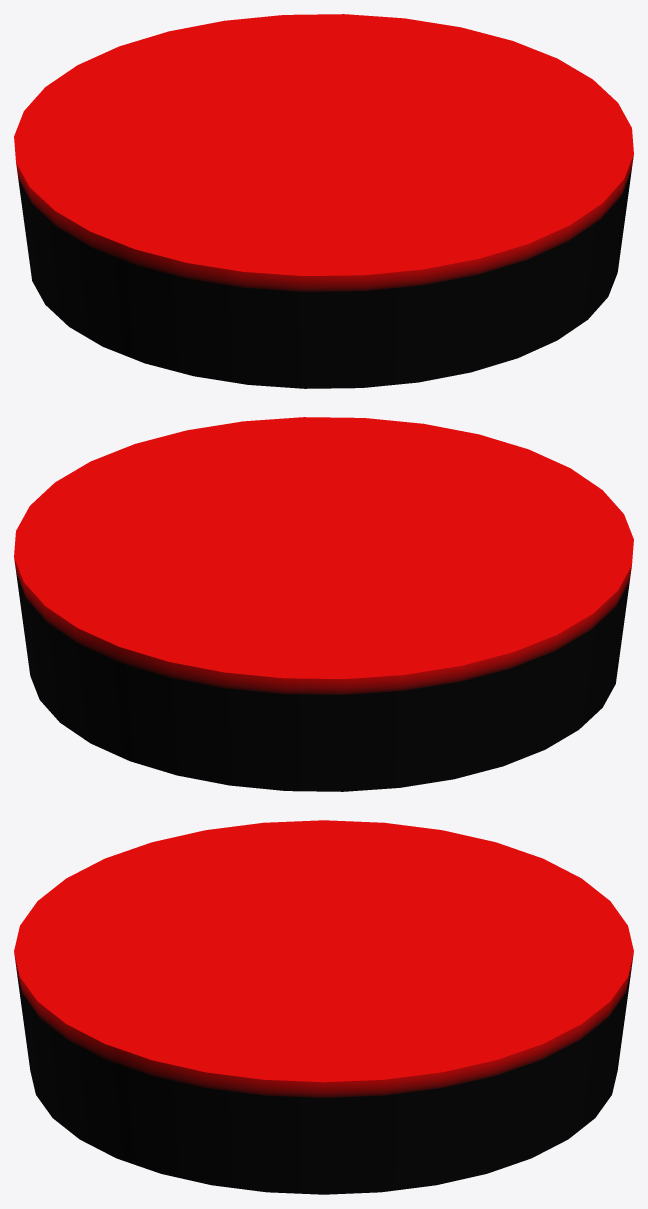
Rendered from PlantPotWater.fbx.
The picture shows the model from 3 angles, top to bottom: view 1: azimuth 30°, elevation 25°; view 2: azimuth 150°, elevation 25°; view 3: azimuth 270°, elevation 25°; orthographic projection.
Parts seen in each view (by area): view 1: Cylinder.001; view 2: Cylinder.001; view 3: Cylinder.001.
Boxes of the visible parts, x1=… form: Cylinder.001: x1=14, y1=14, x2=633, y2=388; Cylinder.001: x1=14, y1=417, x2=633, y2=791; Cylinder.001: x1=14, y1=820, x2=633, y2=1194.
Size of the model in its own units: 0.9989 by 0.2121 by 0.9989.
